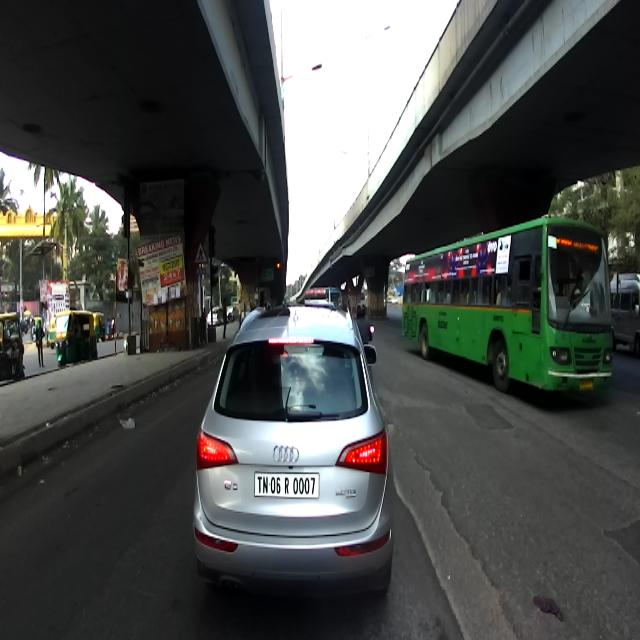bus ahead at: (399, 214, 616, 408)
car ahead at: (188, 292, 398, 604)
